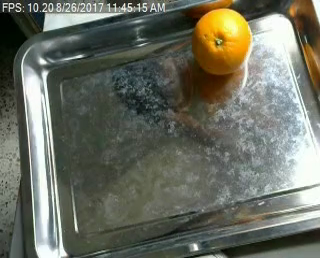Orange: (192, 7, 252, 75)
